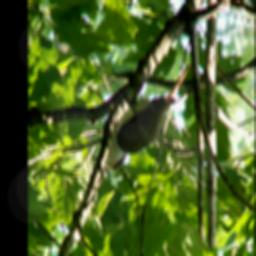Cuckoo: (102, 63, 192, 174)
